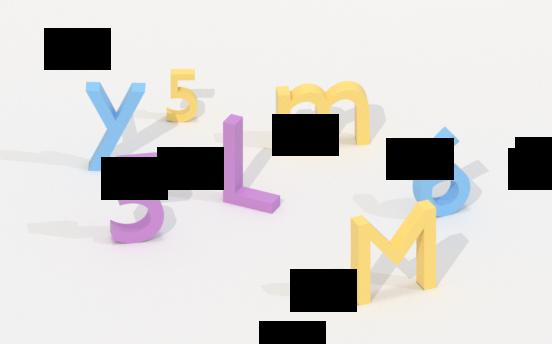5: (108, 152, 167, 247), (164, 66, 205, 126)
6: (407, 122, 476, 218)
M-hoa: (347, 199, 442, 311)
Y: (78, 79, 147, 172)
l: (214, 115, 288, 209)
m: (271, 79, 372, 153)
